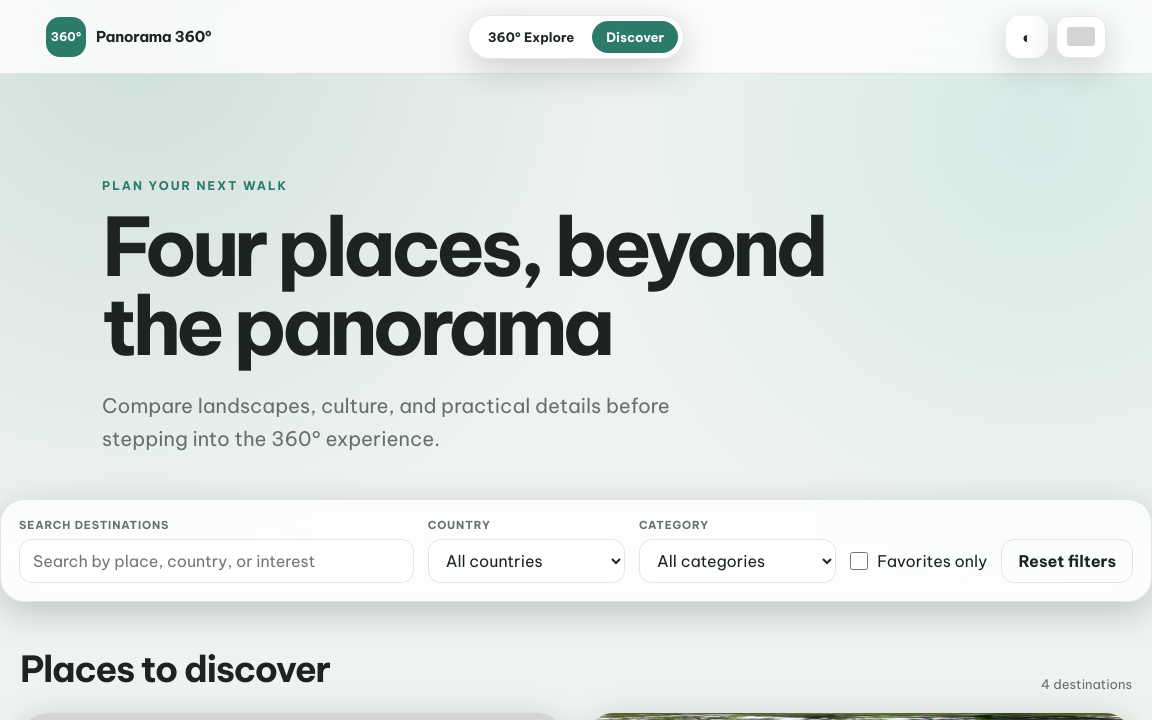
Test: DiscoverPage › shows and filters the four localized destinations
Type "Texel" into the search field labelled "Search destinations". click: (216,561)
box: [19,539,414,583]
(page scrolled)
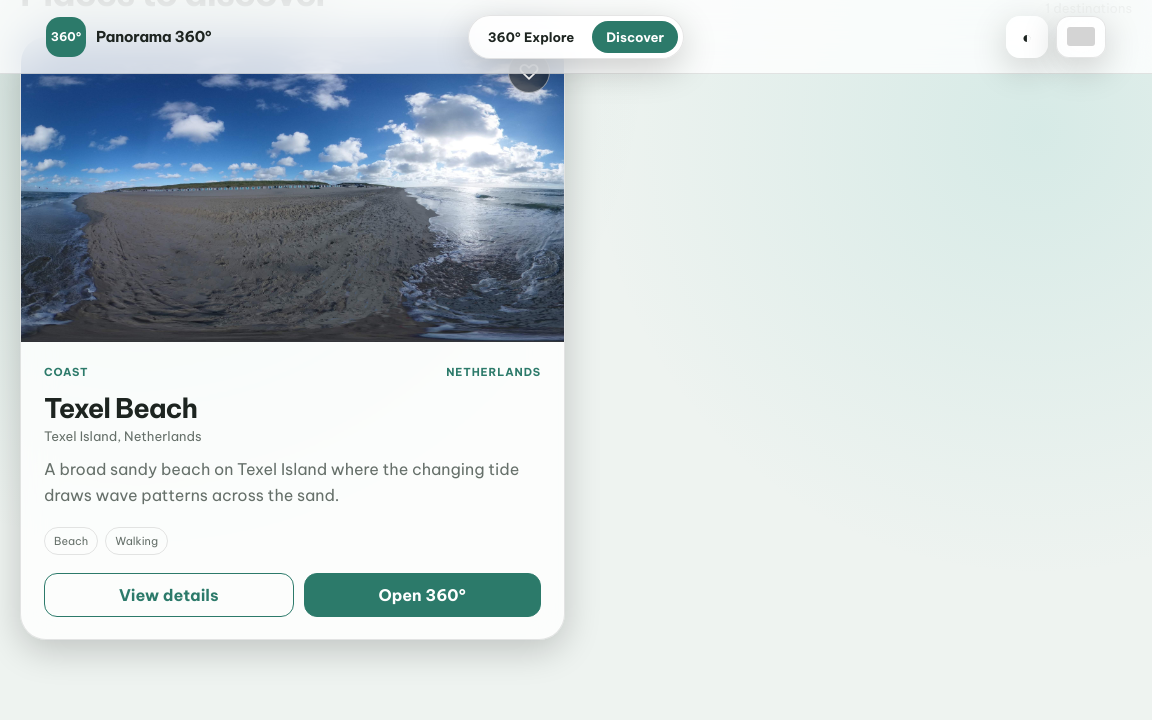
Expected: the heading "Texel Beach" is shown, [44,391,197,425]
